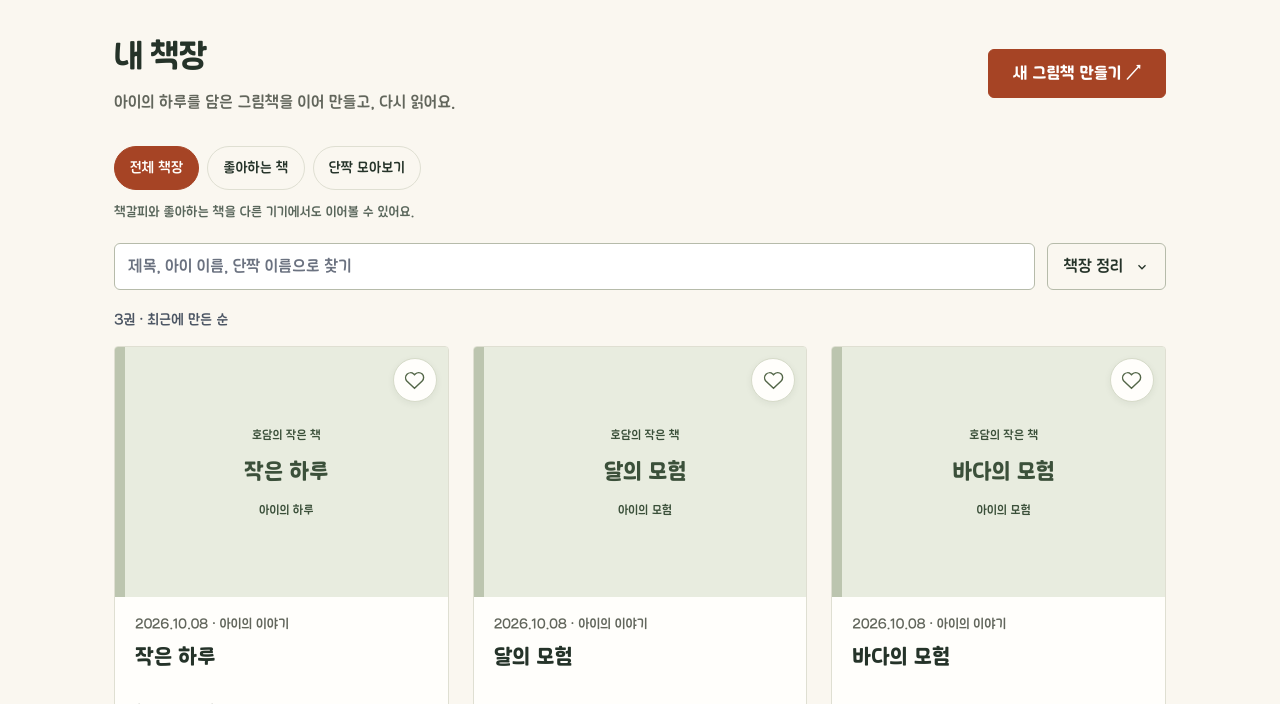
MyStoryLibrary discovery › groups adventures by child and companion and finds companion names
Expected: the heading "달의 모험" is shown, [494, 645, 573, 669]
Click the button "단짝 모아보기". click: point(367, 168)
box: [312, 146, 421, 190]
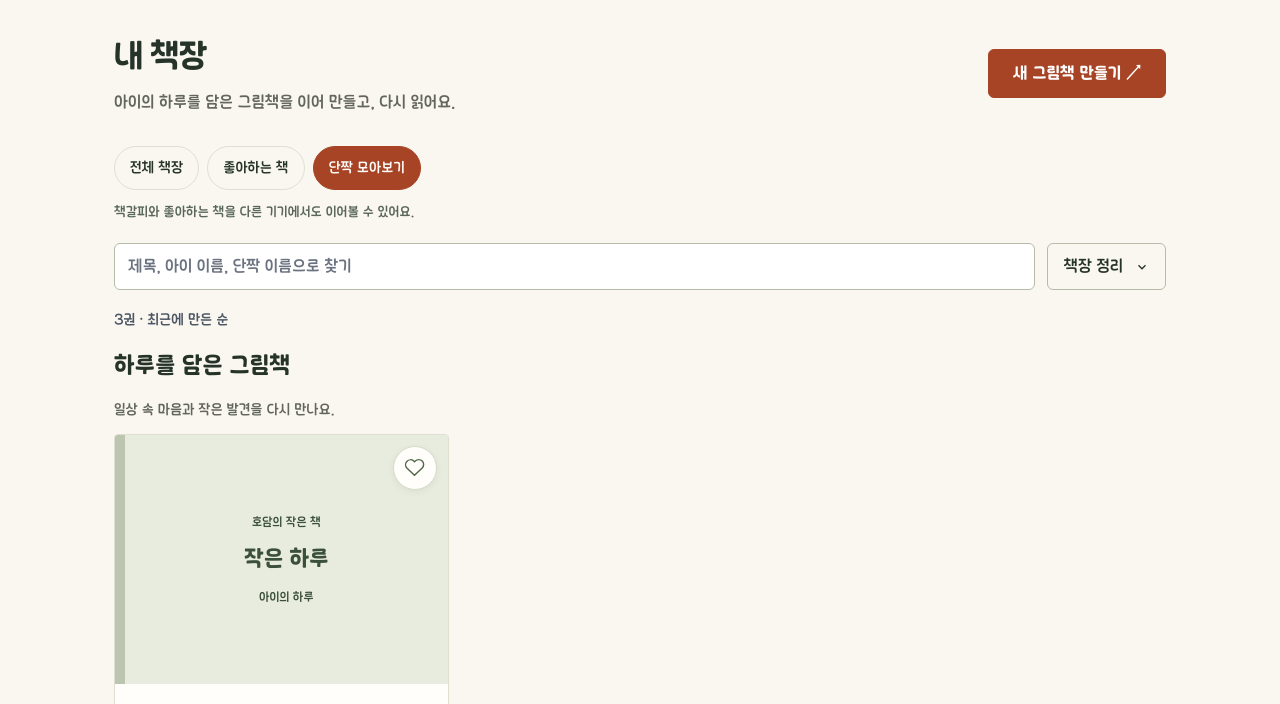
Result: the heading "하루를 담은 그림책" is shown at [114, 352, 290, 378]
Type "두부" into the search field. click: point(574, 267)
box: [114, 244, 1034, 290]
(page scrolled)
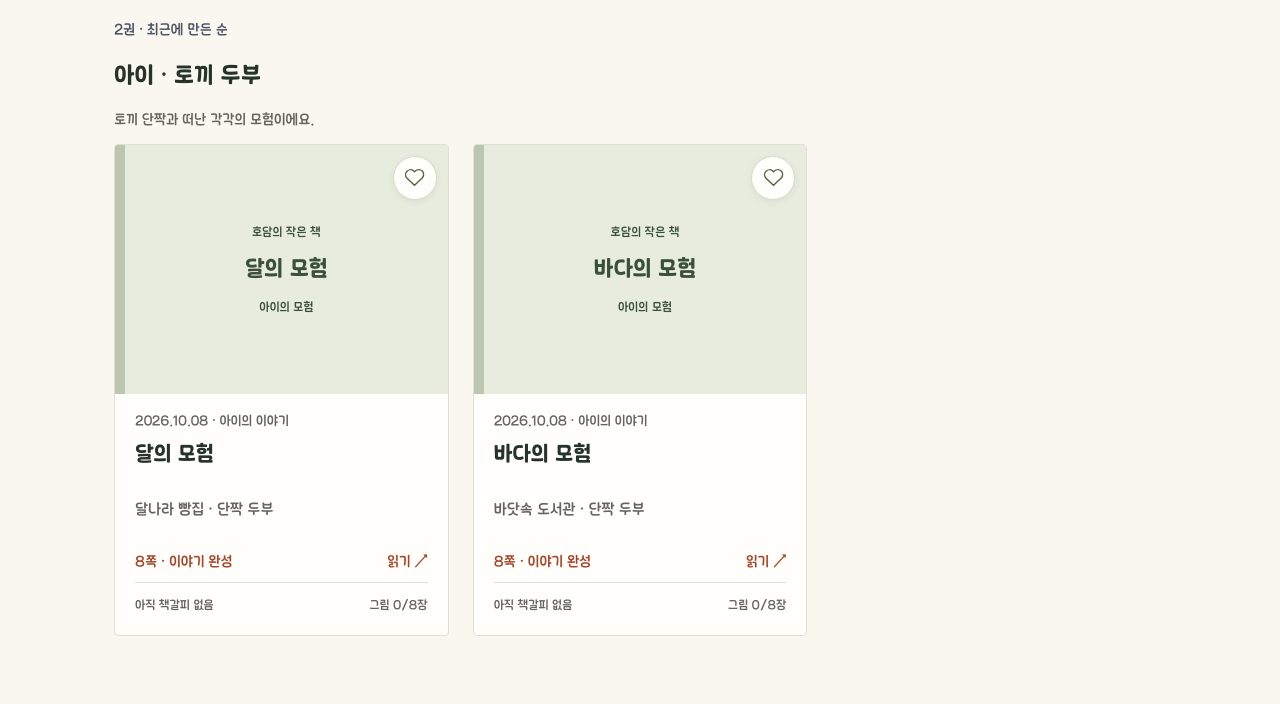
Expected: the heading "달의 모험" is shown, [135, 442, 214, 466]
Result: the link "작은 하루" is gone
